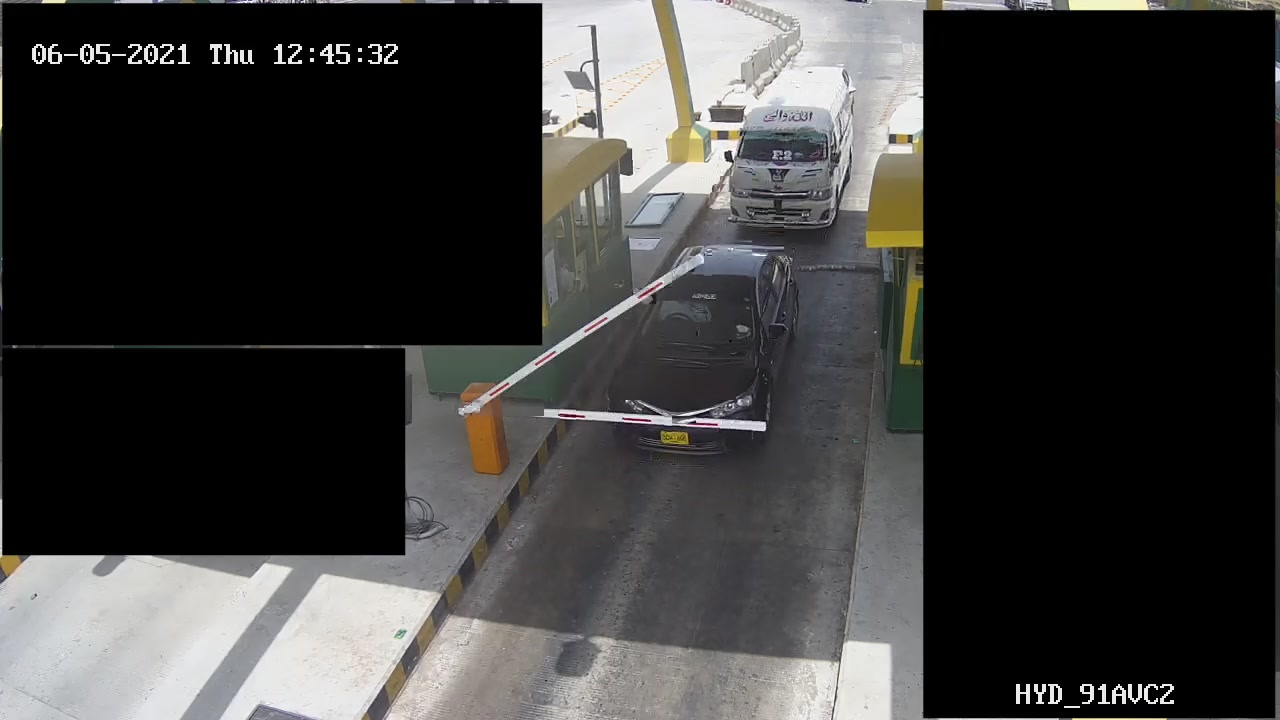F2: (721, 54, 861, 232)
